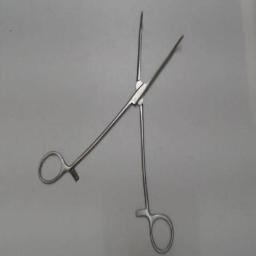Lahey Forceps: (34, 6, 188, 254)
